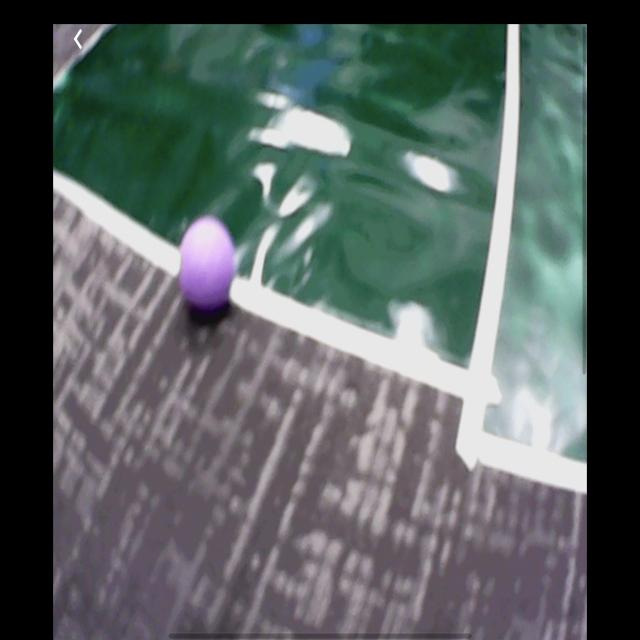ball: (181, 216, 236, 311)
